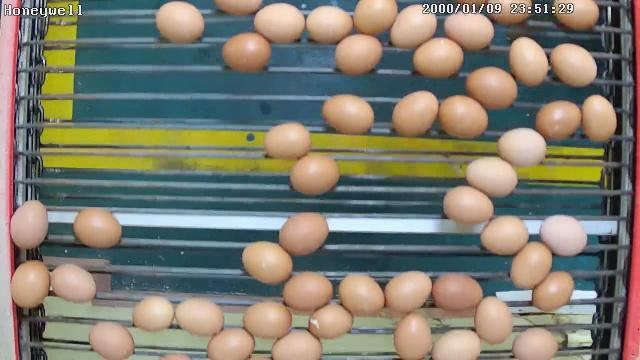egg: (464, 155, 520, 200), (277, 210, 329, 258), (240, 240, 294, 286), (288, 151, 342, 197), (464, 66, 518, 112), (437, 94, 490, 140), (410, 35, 464, 80), (333, 31, 384, 78), (282, 268, 334, 314), (321, 93, 375, 137), (220, 32, 273, 76), (153, 2, 206, 46), (441, 184, 495, 227), (391, 90, 438, 139), (538, 212, 588, 258), (383, 269, 433, 315), (72, 206, 124, 250), (252, 2, 306, 44), (534, 98, 584, 143), (388, 3, 438, 48), (507, 36, 550, 88), (174, 296, 227, 338), (9, 198, 50, 252), (550, 42, 598, 88), (508, 240, 552, 290), (496, 126, 547, 169), (478, 214, 530, 256), (431, 271, 483, 313), (442, 10, 494, 52), (9, 260, 52, 310), (338, 273, 385, 318), (262, 121, 312, 163), (473, 294, 513, 346), (528, 269, 576, 312), (48, 262, 97, 304), (304, 5, 354, 46), (392, 312, 434, 360), (242, 300, 292, 340), (88, 319, 136, 360), (268, 325, 324, 360), (582, 92, 618, 144), (307, 300, 353, 340), (204, 325, 256, 360), (131, 294, 175, 334), (430, 327, 482, 360), (511, 325, 560, 360), (351, 1, 398, 36), (553, 0, 600, 32)
